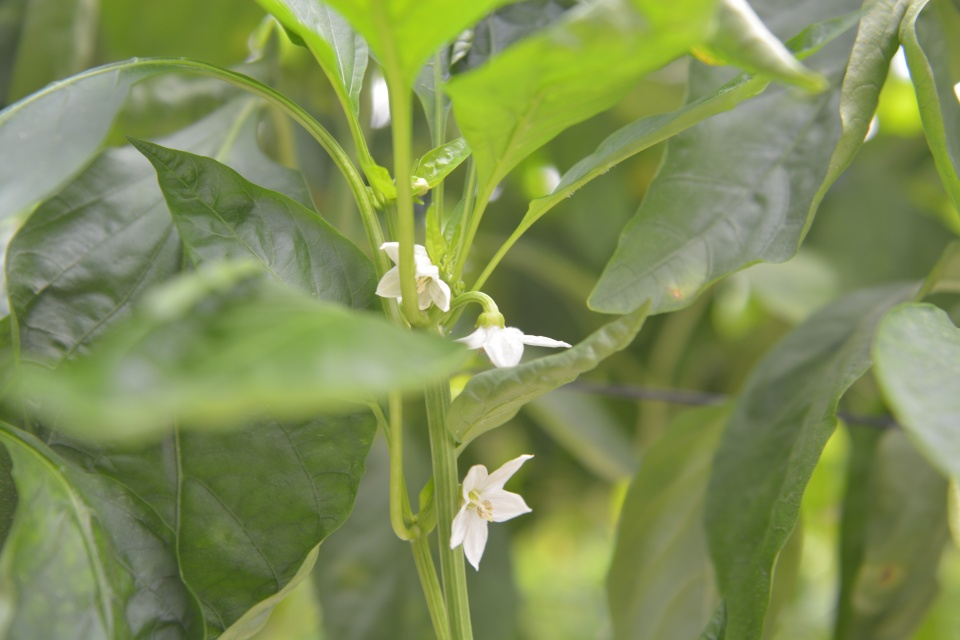flower: (447, 451, 542, 574), (373, 239, 453, 315), (449, 324, 573, 368)
